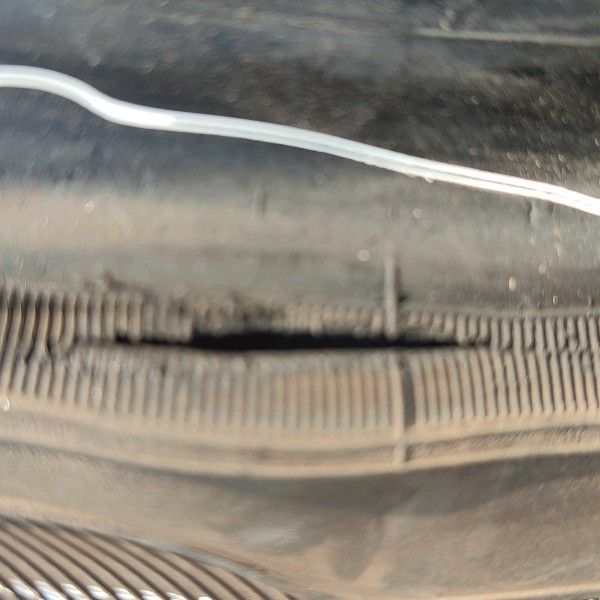cut: (114, 328, 485, 355)
